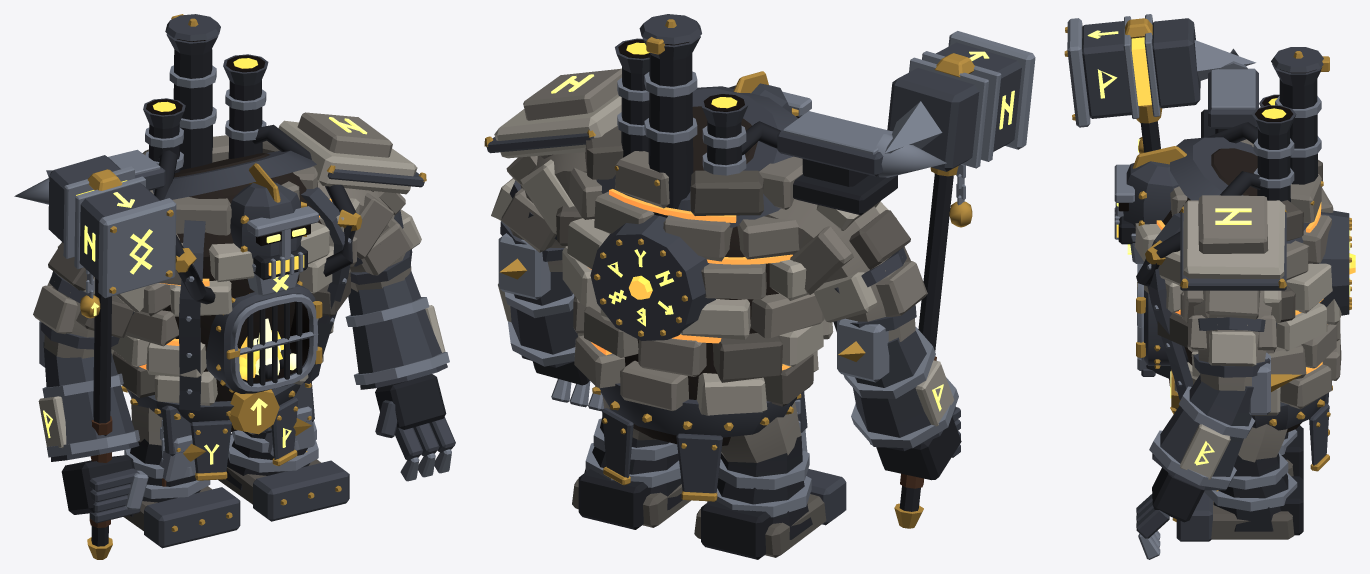
Rendered from forge_golem.glb.
The picture shows the model from 3 angles, left to right: view 1: azimuth 30°, elevation 25°; view 2: azimuth 150°, elevation 25°; view 3: azimuth 270°, elevation 25°; orthographic projection. The views are drawn at different scales.
Parts seen in each view (by area): view 1: ArmL_Fore, Hammer_Strike, ArmR_Fore, LegL_ToeCap, LegR_ToeCap, Core, Firebox, StrapR, PauldronL_Slab, Stack2_Pipe, Gorget, Helm (+71 smaller); view 2: BackDisc, Hammer_Back, Stack2_Pipe, ArmR_Fore, Belt, Hammer_Shaft, PauldronL_Slab, ArmR_Upper, Gorget, Block5_4, PauldronL_Top, LegR_Shin (+72 smaller); view 3: PauldronL_Slab, ArmL_Fore, Hammer_Front, PauldronL_Top, Hammer_Back, Gorget, Helm, Stack2_Pipe, LegL_Shin, StrapL, BackDisc, Anvil_Plate (+61 smaller).
Part boxes in pixels (x1,y1,x2,y2): ArmL_Fore: (348, 271, 447, 389); Hammer_Strike: (98, 198, 176, 298); ArmR_Fore: (43, 342, 139, 461); LegL_ToeCap: (253, 460, 349, 521); LegR_ToeCap: (144, 487, 240, 548); Core: (162, 153, 321, 431); Firebox: (206, 283, 315, 393); StrapR: (179, 220, 205, 410); PauldronL_Slab: (278, 120, 417, 194); Stack2_Pipe: (173, 49, 212, 170); Gorget: (152, 150, 316, 199); Helm: (230, 182, 302, 258); BackDisc: (590, 215, 715, 340); Hammer_Back: (887, 68, 979, 171); Stack2_Pipe: (648, 53, 693, 217); ArmR_Fore: (853, 331, 956, 451); Belt: (599, 383, 796, 437); Hammer_Shaft: (899, 173, 953, 511); PauldronL_Slab: (494, 94, 621, 158); ArmR_Upper: (764, 199, 915, 341); Gorget: (596, 86, 798, 227); Block5_4: (690, 170, 763, 215); PauldronL_Top: (523, 68, 621, 120); LegR_Shin: (707, 436, 812, 539); PauldronL_Slab: (1183, 200, 1285, 278); ArmL_Fore: (1152, 374, 1253, 490); Hammer_Front: (1082, 21, 1131, 118); PauldronL_Top: (1198, 195, 1268, 253); Hammer_Back: (1152, 18, 1200, 108); Gorget: (1170, 137, 1309, 243); Helm: (1123, 161, 1178, 227); Stack2_Pipe: (1279, 79, 1318, 184); LegL_Shin: (1213, 453, 1288, 531); StrapL: (1147, 213, 1192, 399); BackDisc: (1313, 210, 1349, 315); Anvil_Plate: (1211, 68, 1255, 109).
Size of the model in its own units: 4.49 by 4.85 by 2.87.
